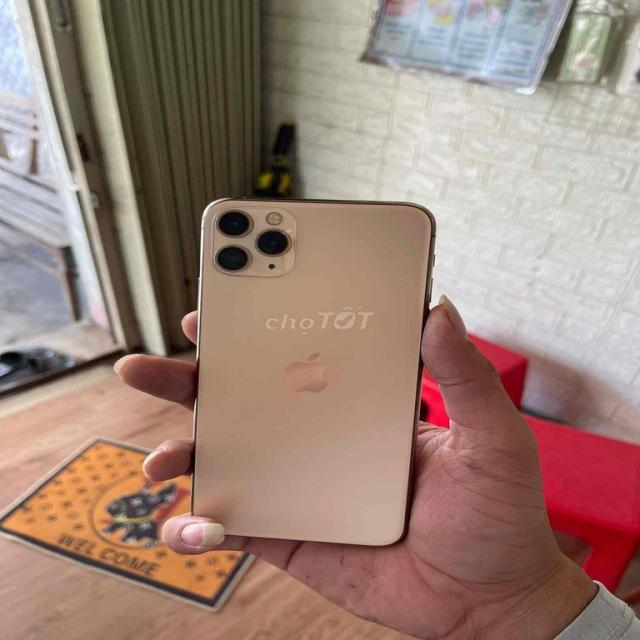gen_11: (175, 180, 451, 562)
